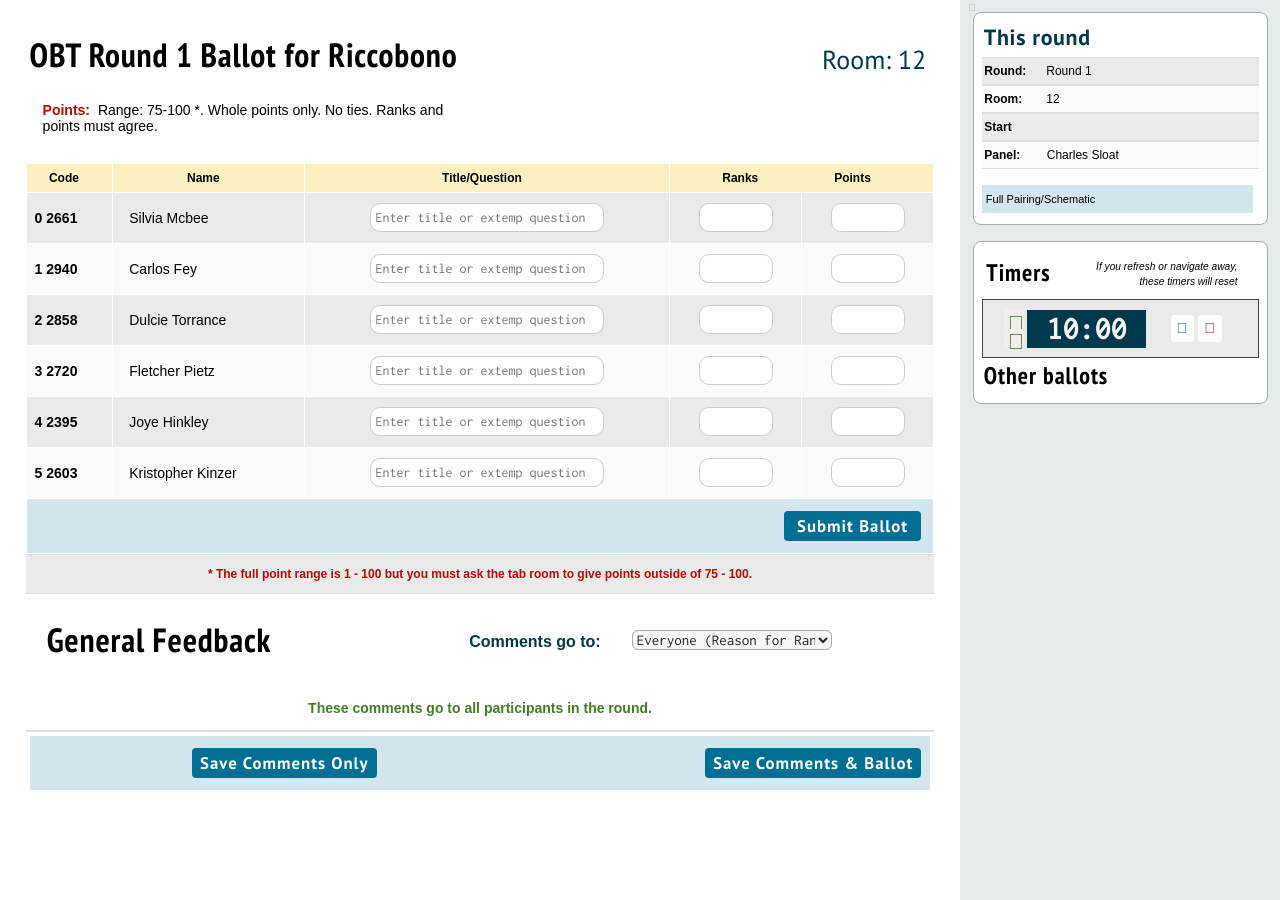
Scenario: Speech Ballot › reports ranking errors
The width and height of the screenshot is (1280, 900).
Type "1" into the number field named "2661_ranks" at (736,217), box [699,203,773,232]
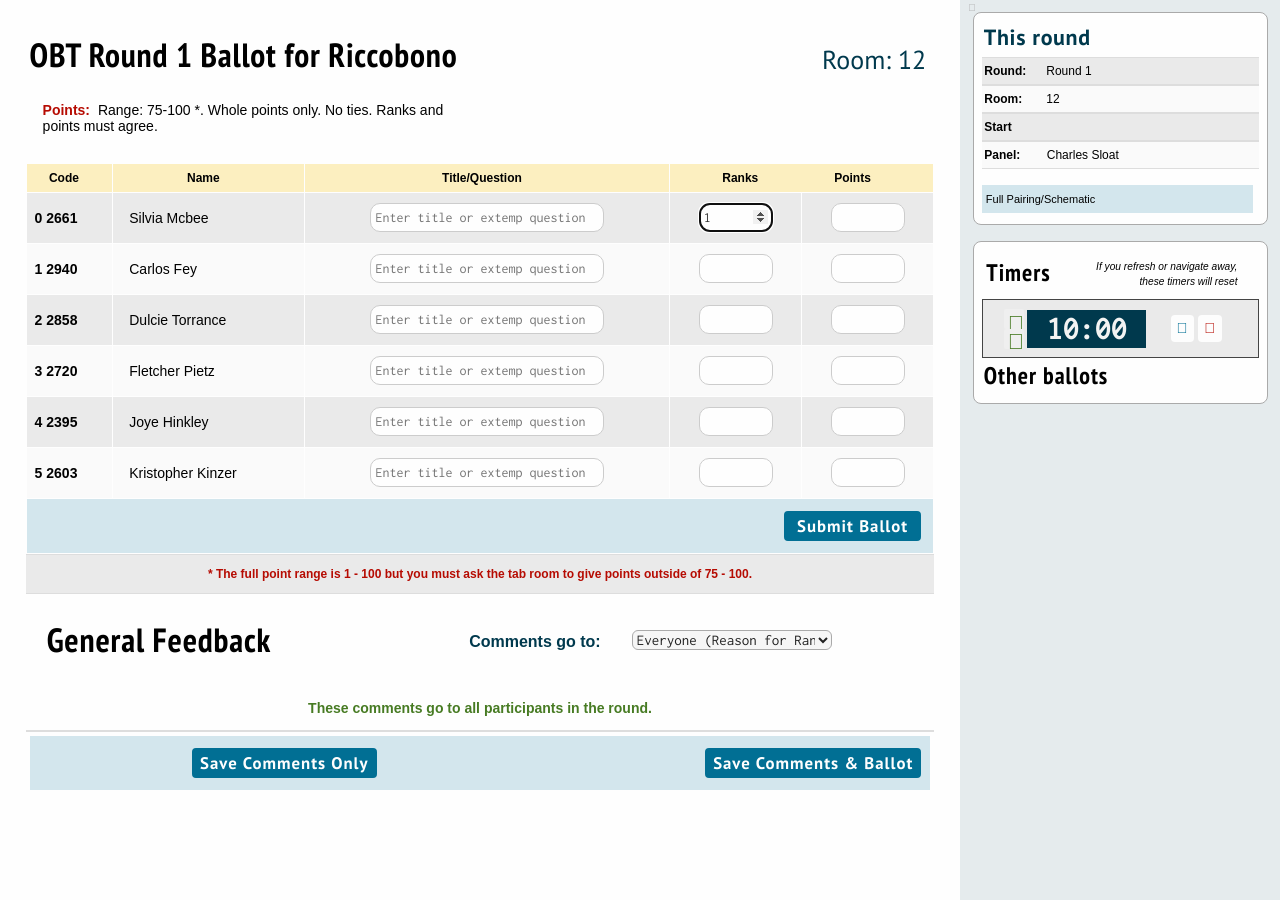
Type "99" into the number field named "2661_points" at (868,217), box [831,203,905,232]
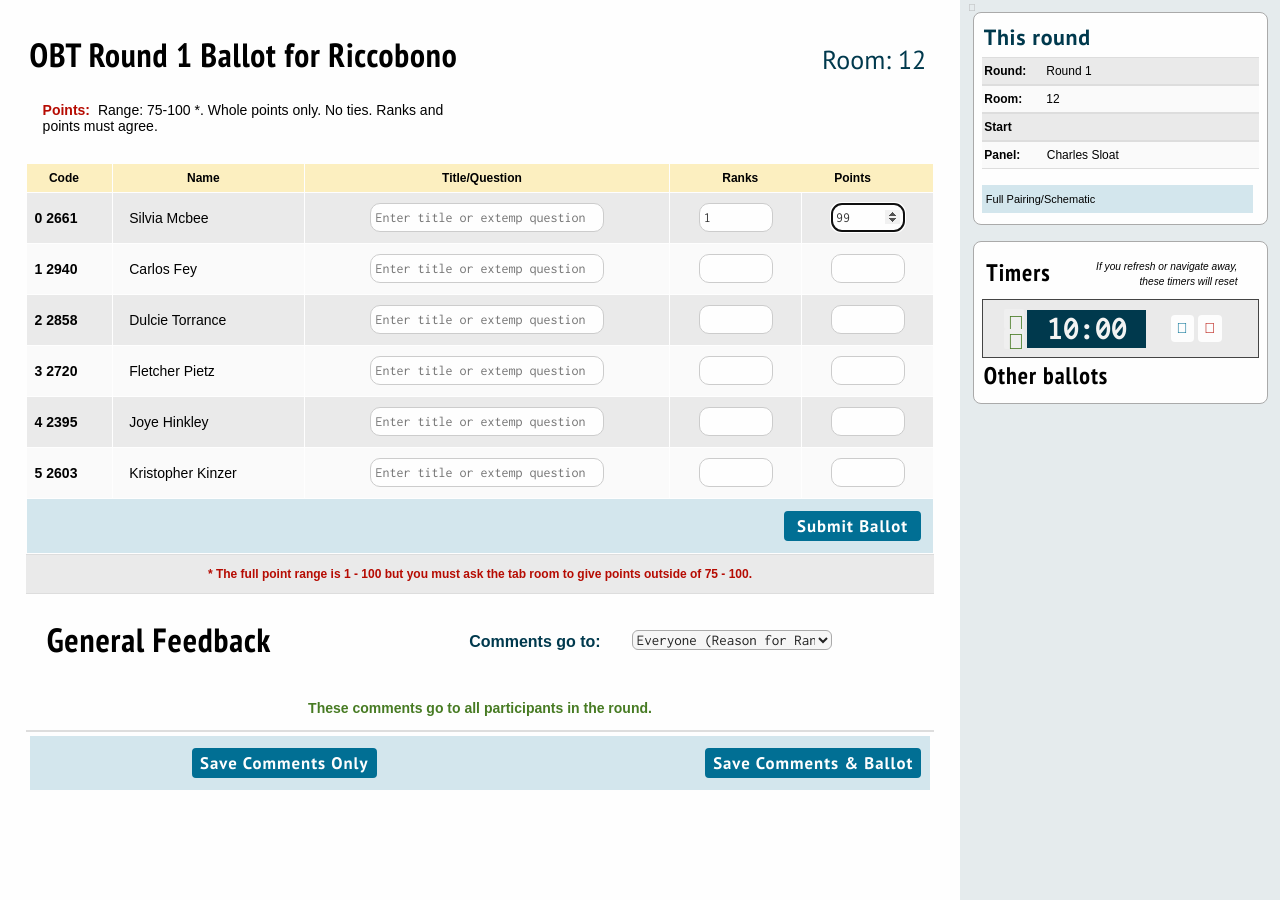
Click the button "Submit Ballot" at (853,526), box [784,511,921,541]
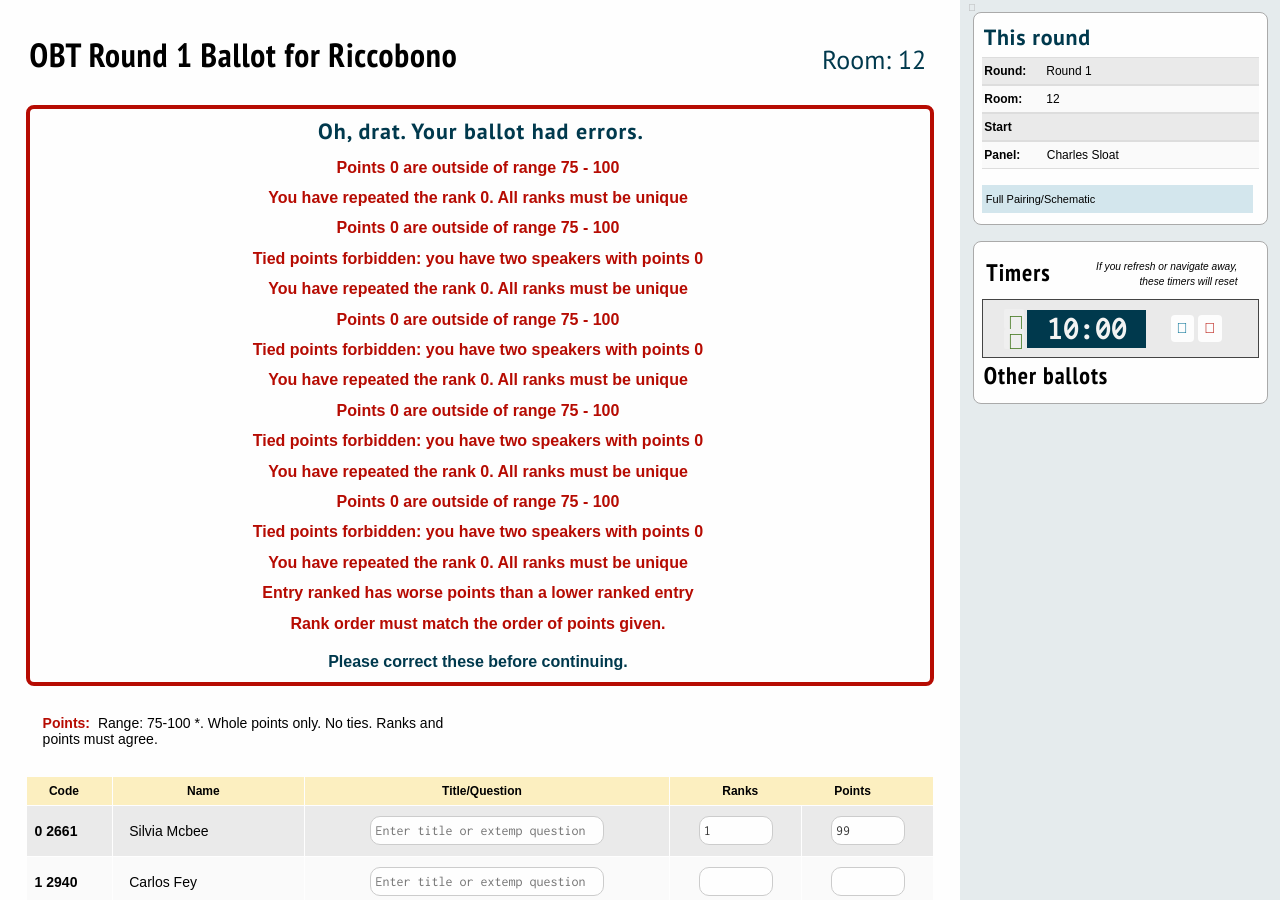
Now the heading "Oh, drat. Your ballot had errors." is shown, box [318,117,644,145]
